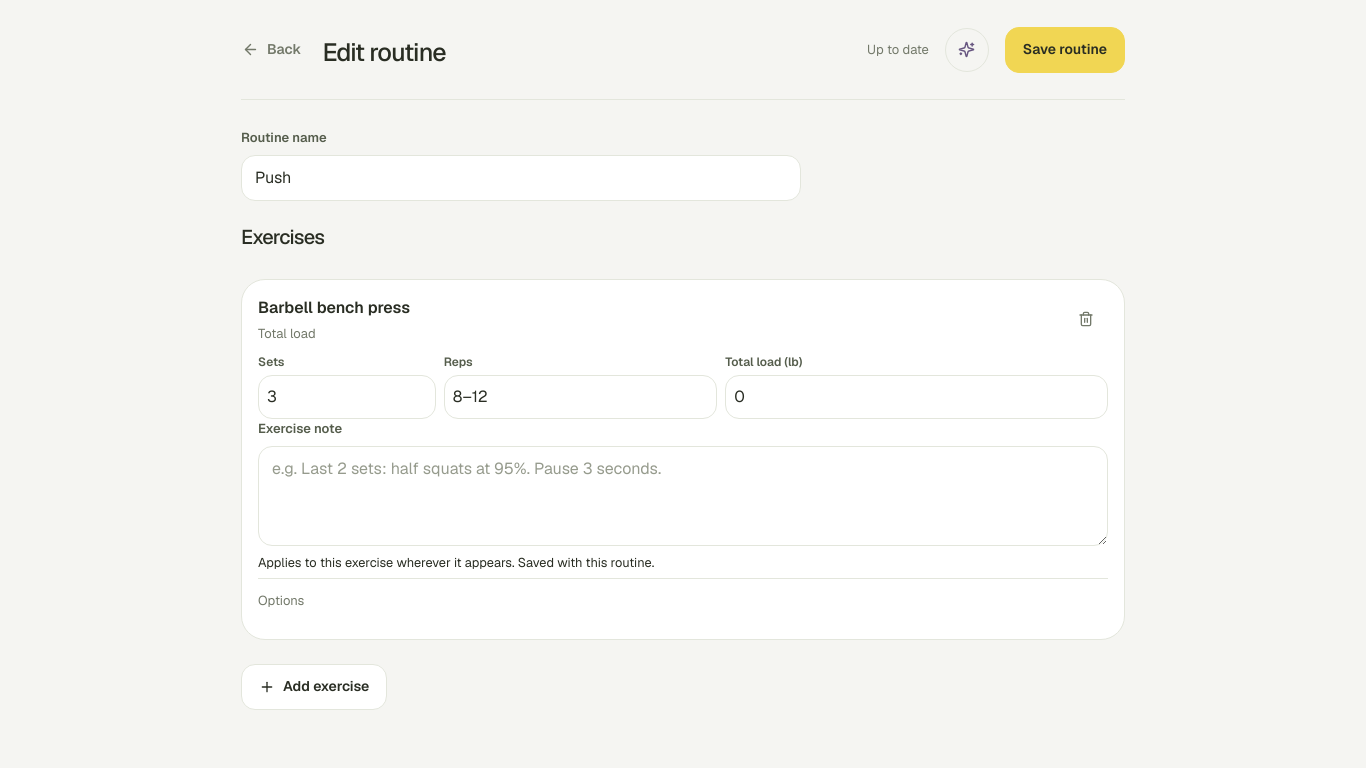
Test: RoutineEditor removal review › searches exercise replacements by equipment and muscle, then updates only the draft
The image size is (1366, 768).
Click the heading "Options": x=281, y=600 [258, 592, 304, 609]
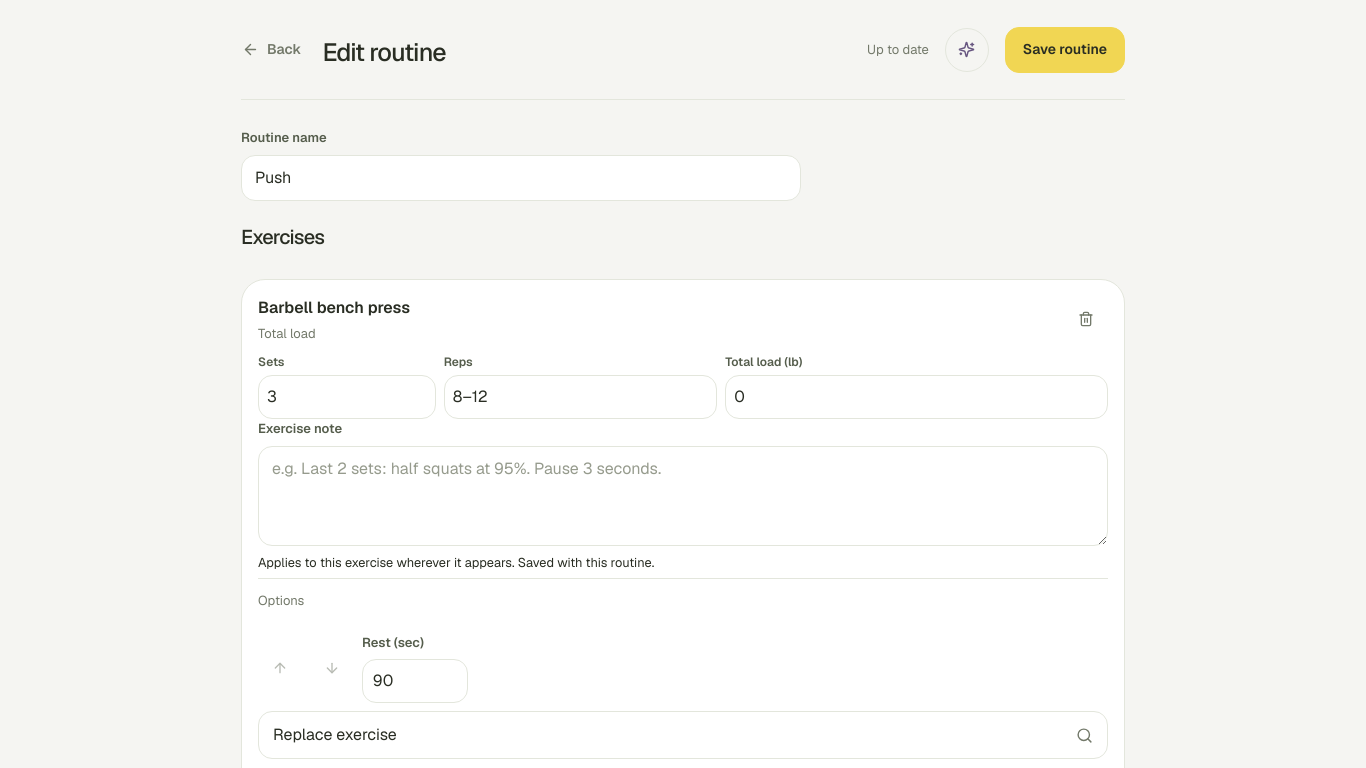
Click the button "Replace exercise": x=335, y=735 [258, 711, 1108, 759]
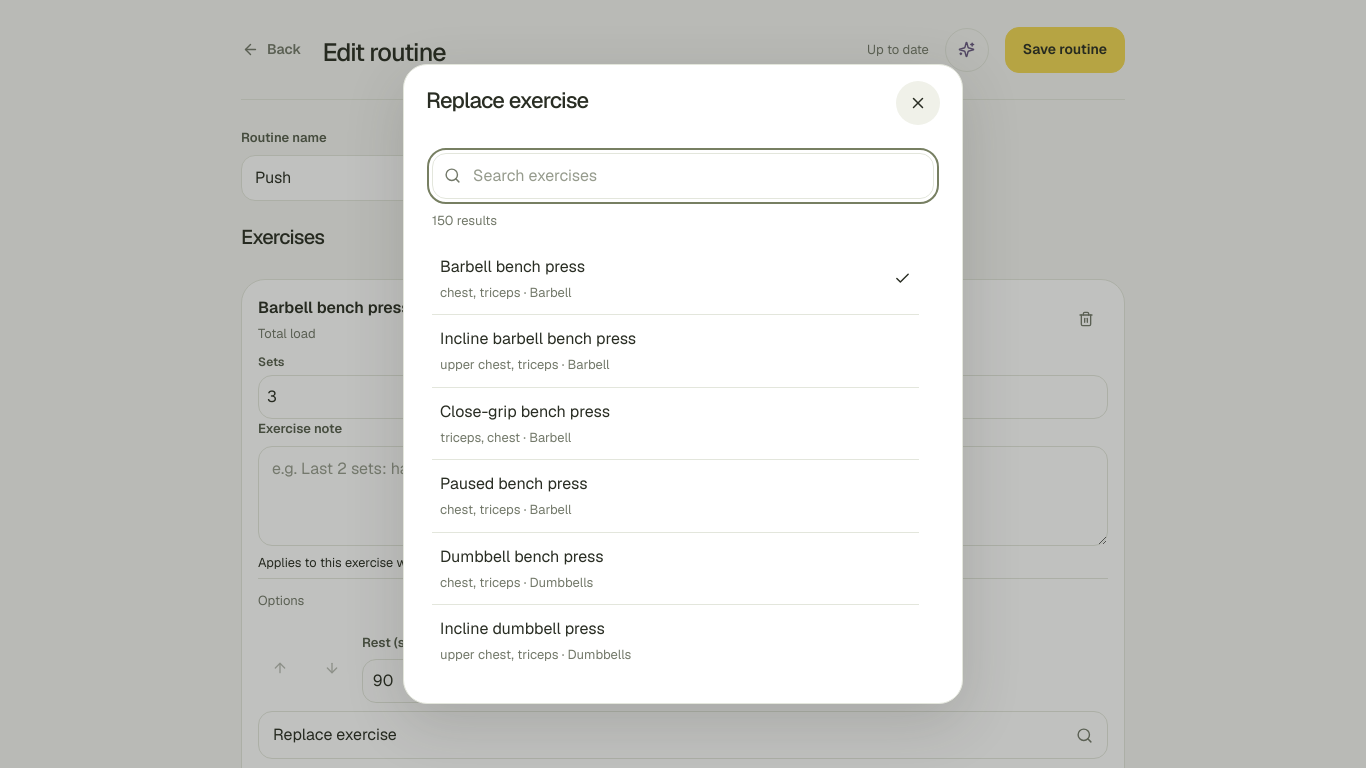
In the search field named "Search replace exercise": x=683, y=176 [432, 153, 934, 199], type "dumbbells"
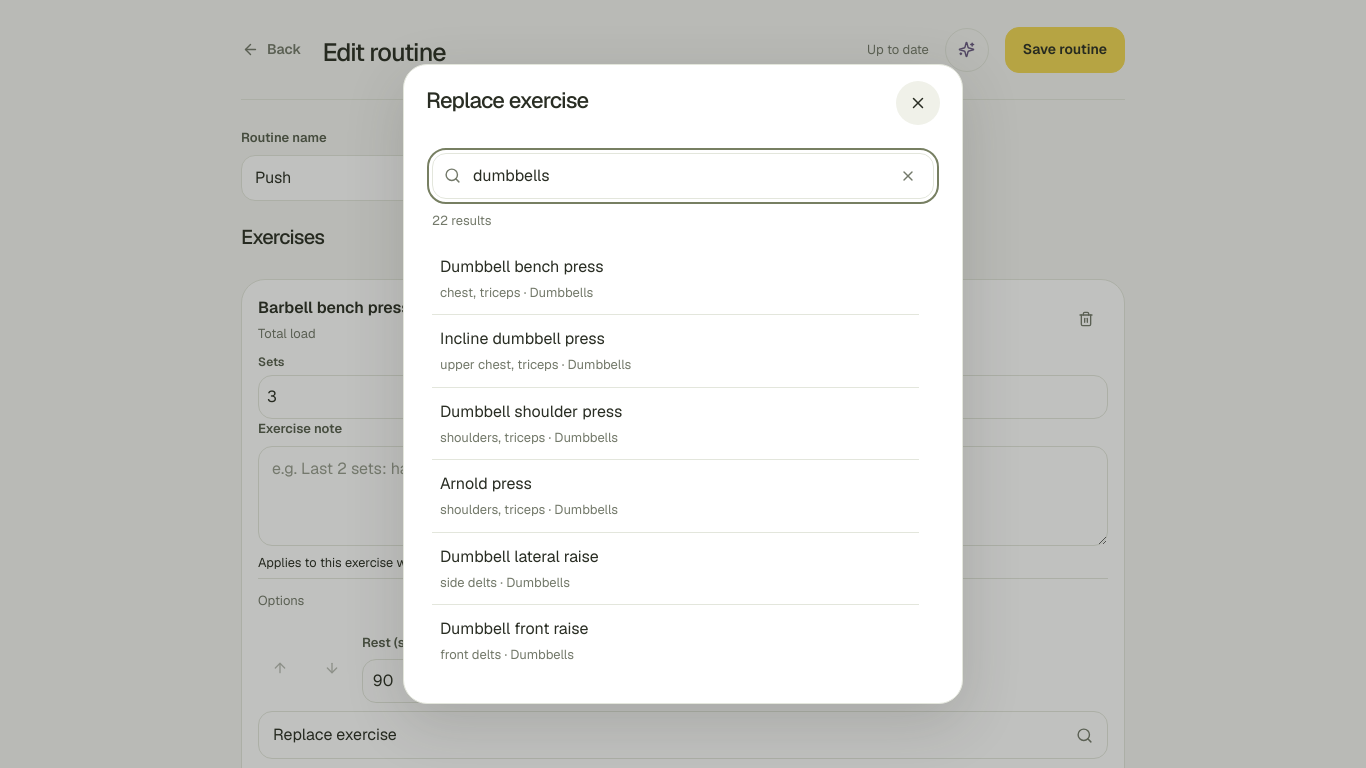
Replace the text in the search field named "Search replace exercise" with "triceps dumbbells": x=683, y=176 [432, 153, 934, 199]
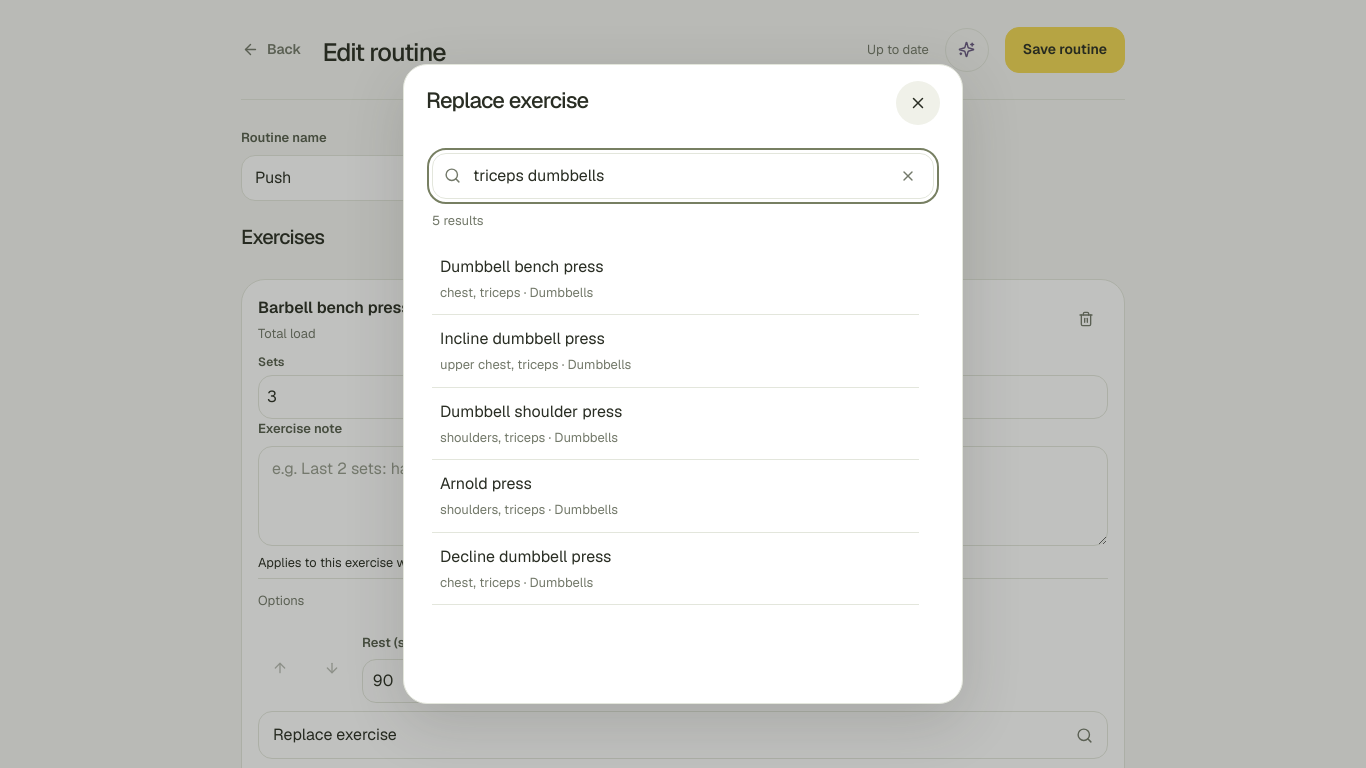
Click the button "Dumbbell bench press chest, triceps · Dumbbells": x=522, y=266 [432, 242, 919, 315]
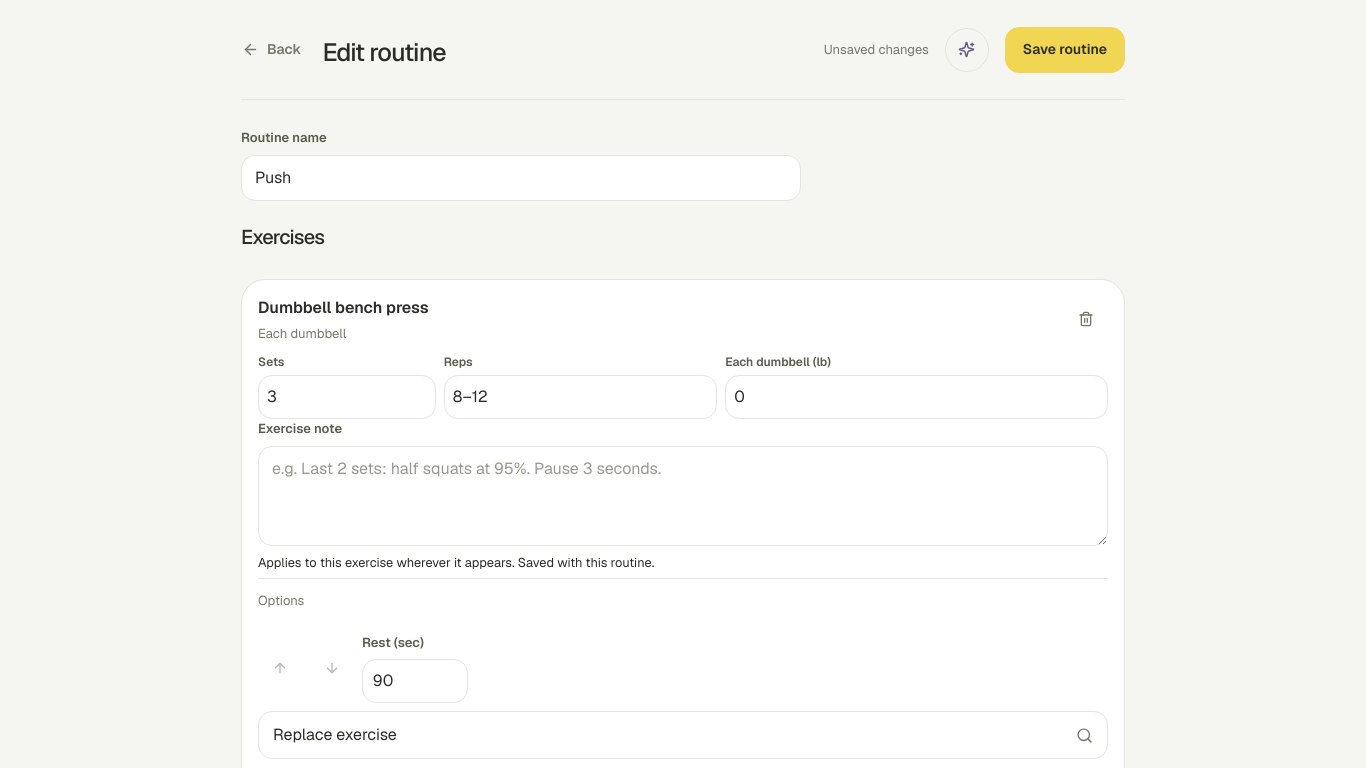
Expected: the text "Dumbbell bench press" is shown, [258, 296, 429, 318]
Expected: the dialog is gone
